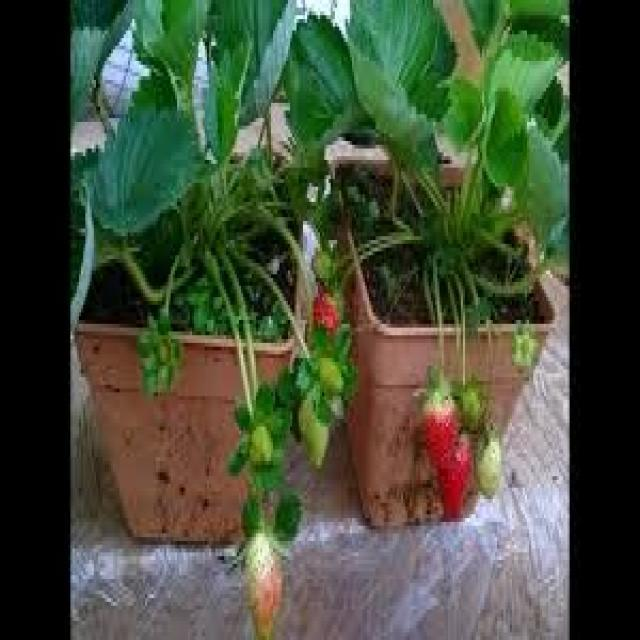Fruta sana: (422, 386, 458, 471), (442, 434, 474, 516), (316, 275, 339, 336)
